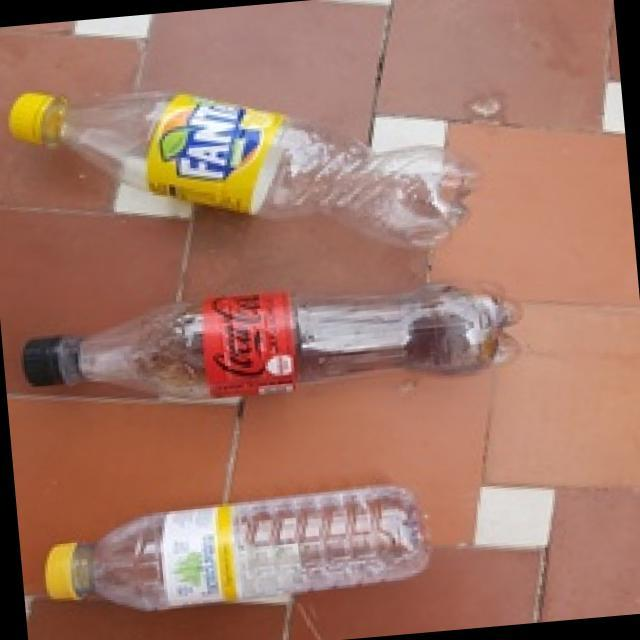good: (3, 69, 528, 262), (25, 480, 481, 619), (11, 280, 532, 401)
